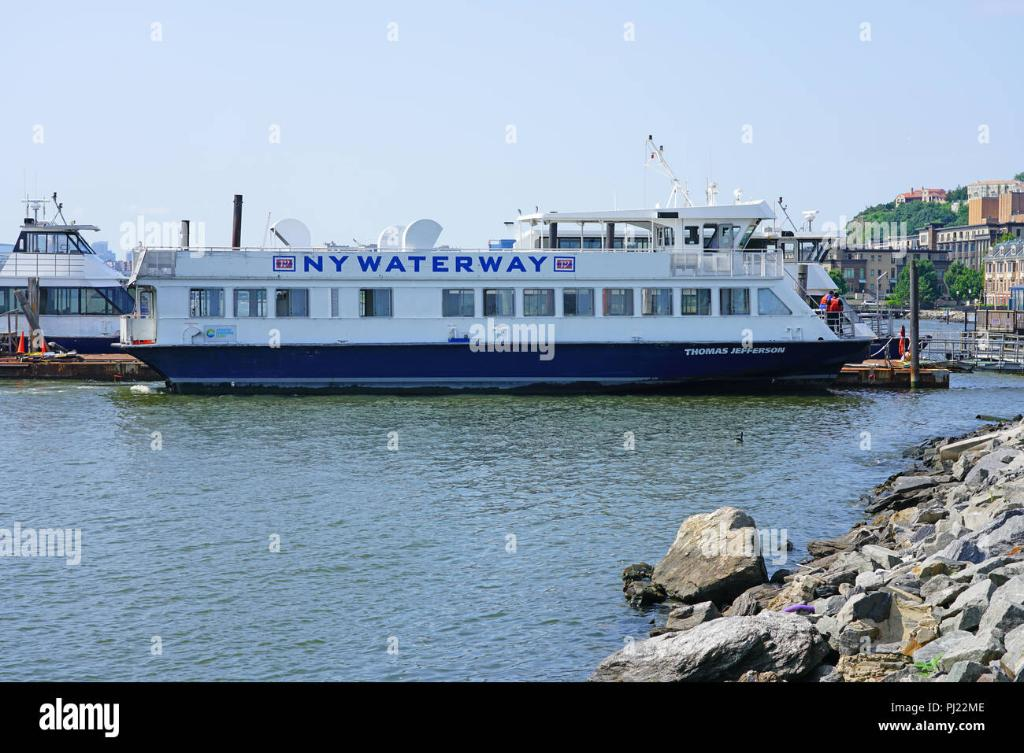PassengerShip: (110, 184, 894, 398)
